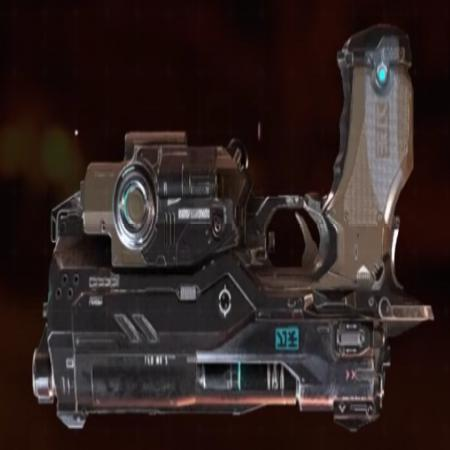Pistol: (28, 37, 432, 432)
